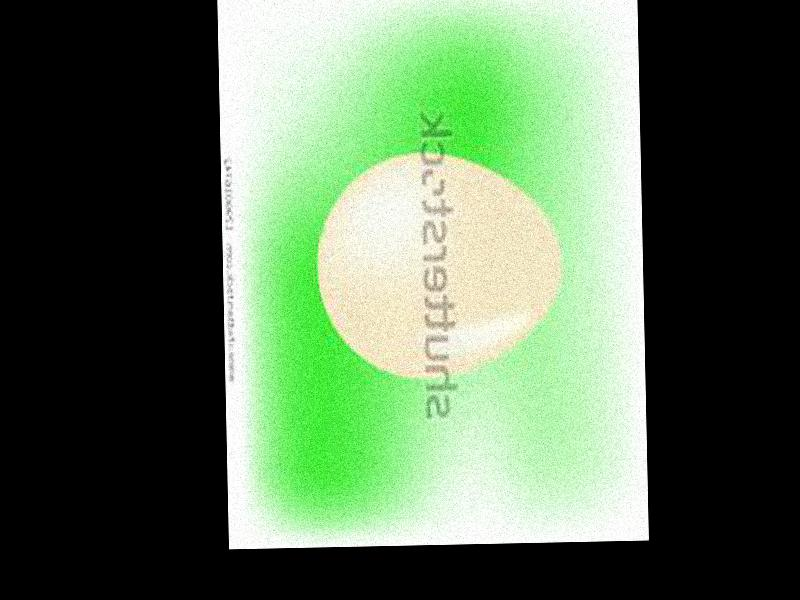Eggs: (316, 149, 563, 379)
